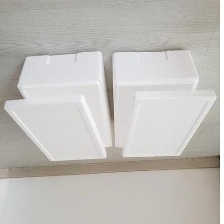foam_box: (1, 47, 113, 165), (110, 46, 218, 163)
